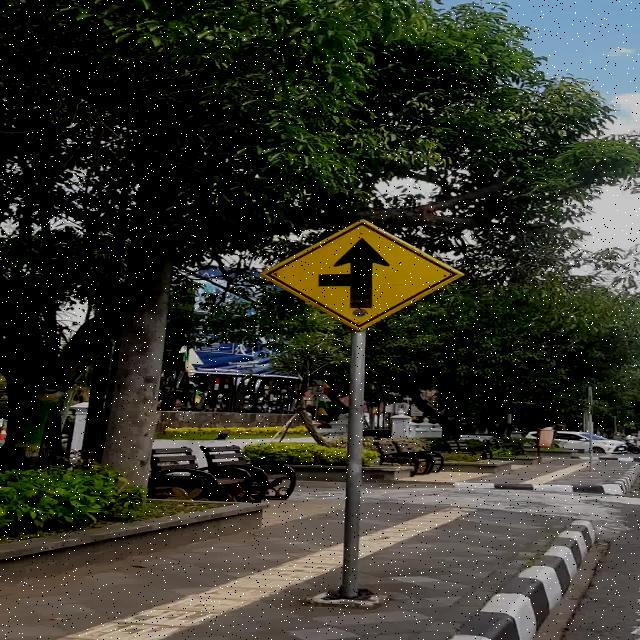Persimpangan 3 Prioritas Kiri: (260, 218, 464, 332)
